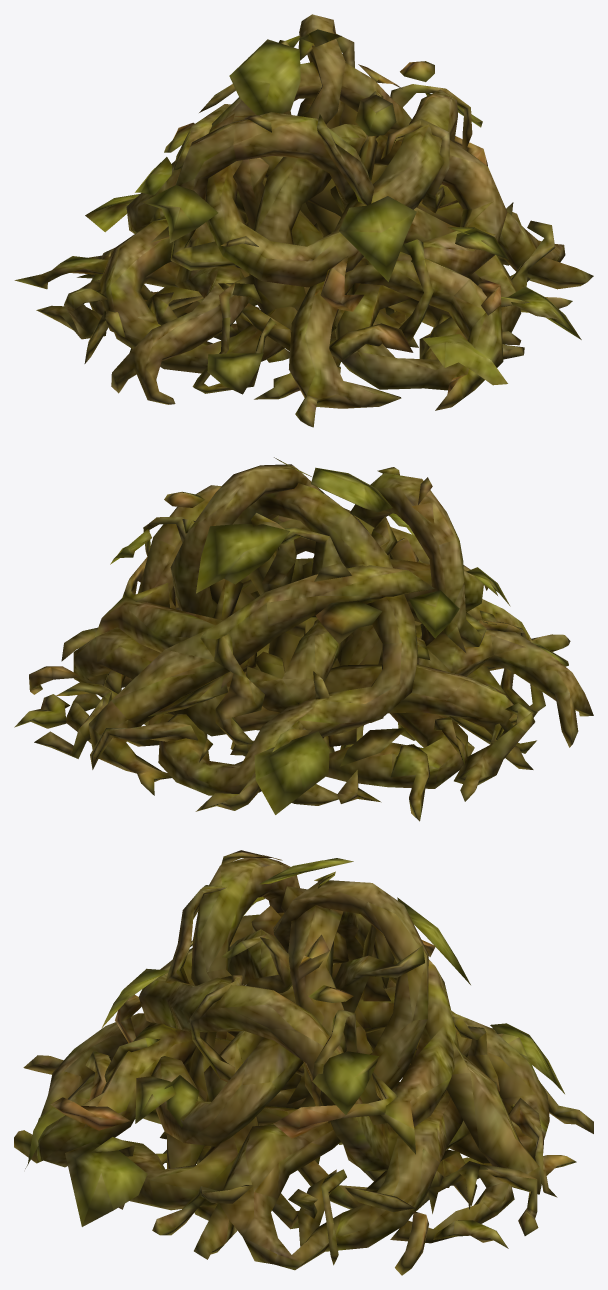
Rendered from chaos-vine.glb.
3 views of the same model, one above another, from view 1: azimuth 30°, elevation 25°; view 2: azimuth 150°, elevation 25°; view 3: azimuth 270°, elevation 25° (orthographic). The views are drawn at different scales.
Bounding box in the file's own units: 1 × 0.5488 × 1.
Materials: 1 (1 with a texture image).
